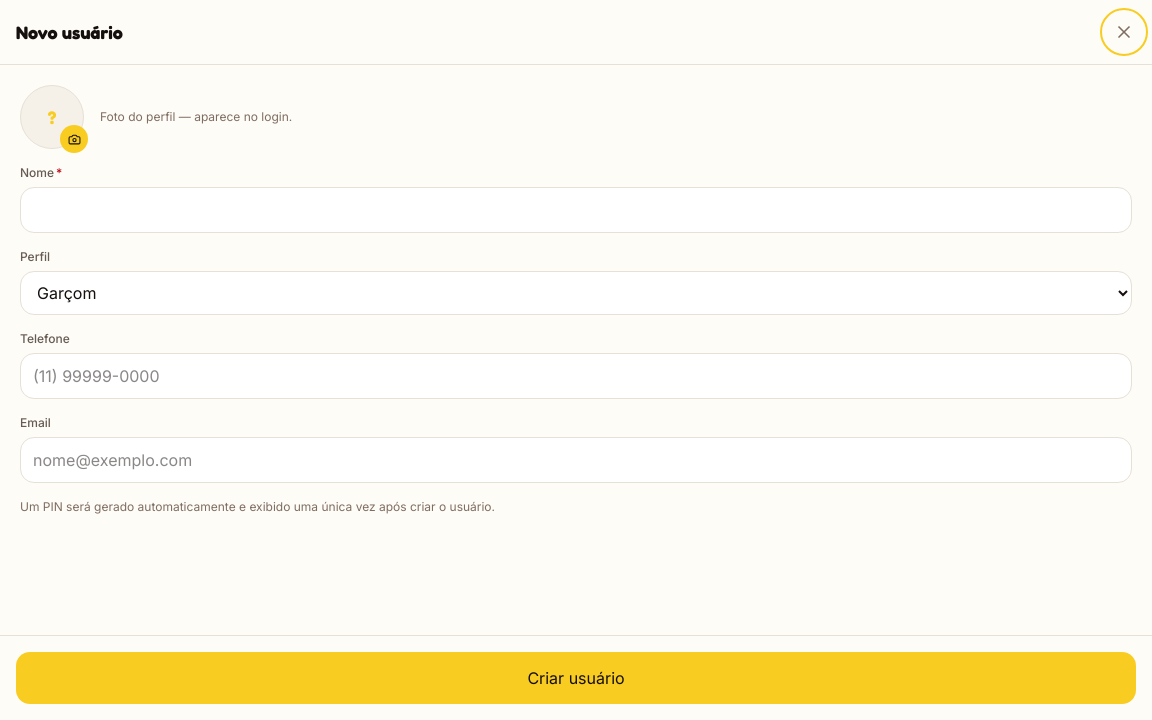
it: UserModal › criação sem nome não cria usuário
Click the button "Criar usuário" at (576, 678), box [16,652,1136,704]
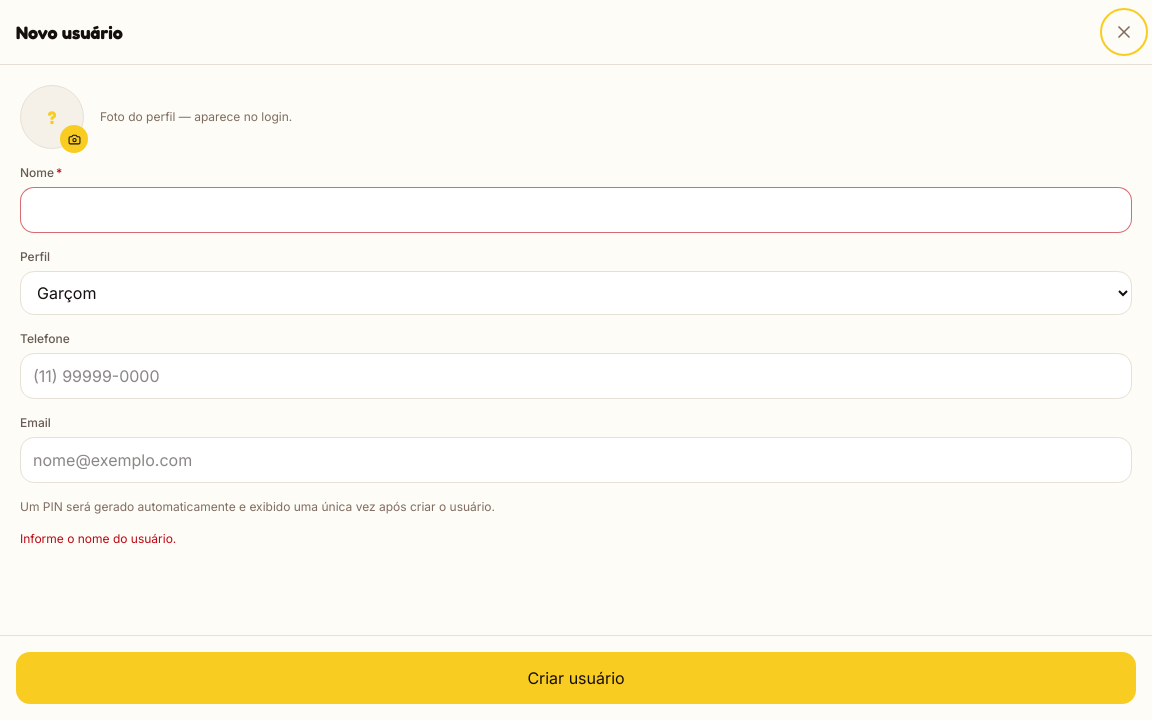
expect the text "Informe o nome do usuário." is shown: met, box [20,531,176,546]
